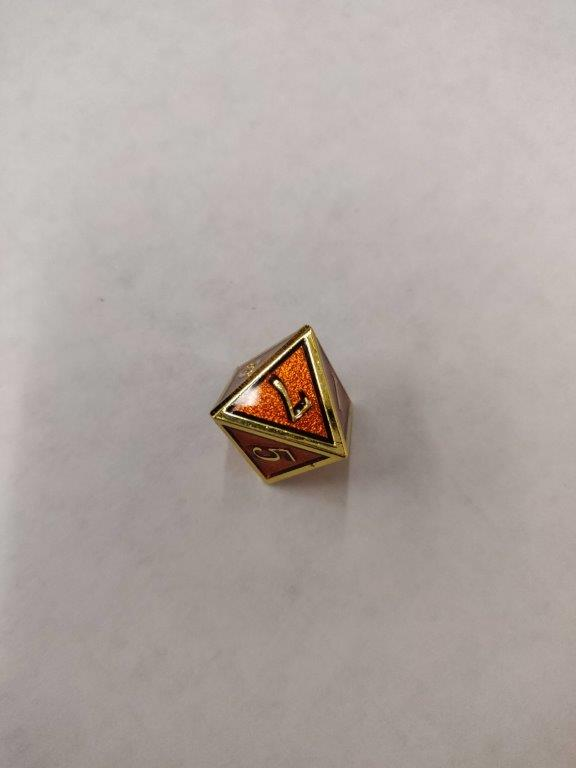d8-7: (207, 322, 353, 487)
